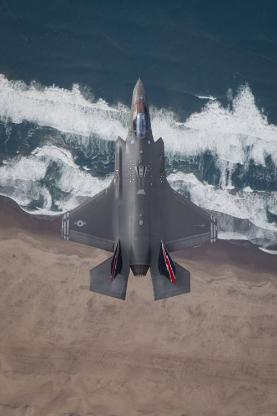F22: (61, 76, 216, 300)
